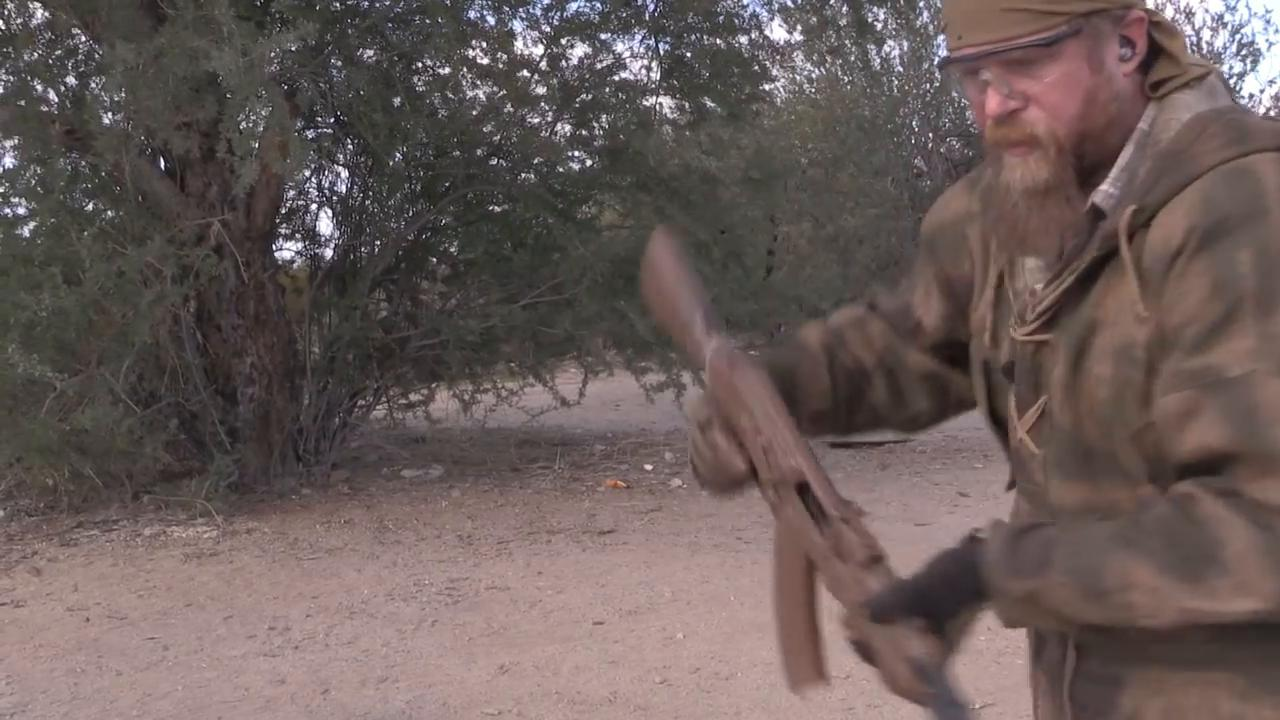AK47 Rifle: (639, 218, 964, 713)
